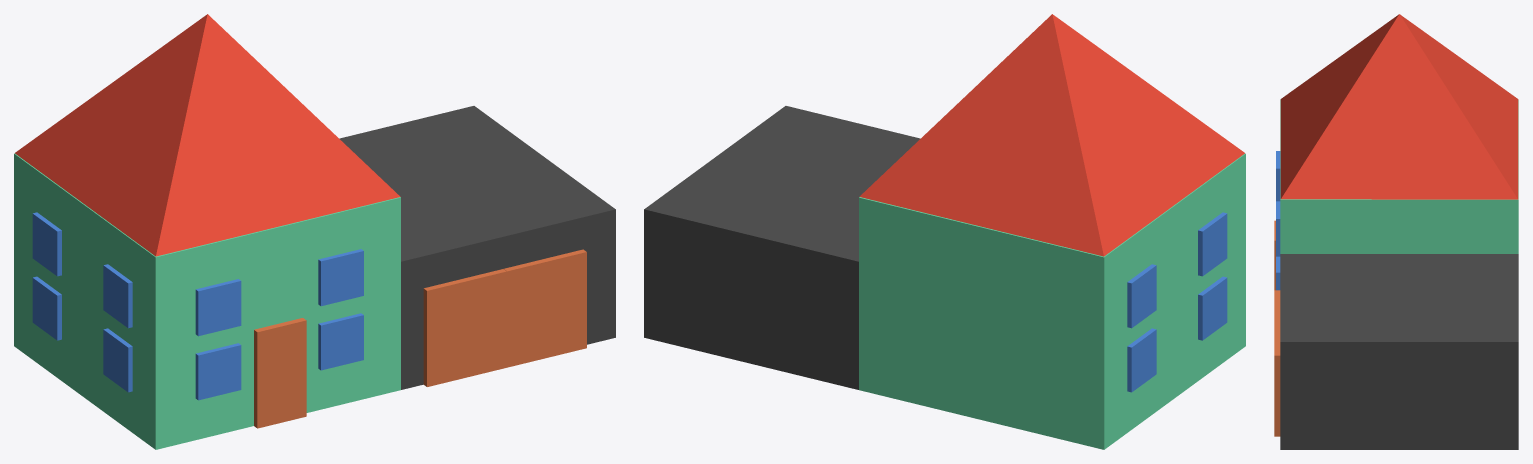
Rendered from house_medium.glb.
3 views of the same model, side by side, from view 1: azimuth 30°, elevation 25°; view 2: azimuth 150°, elevation 25°; view 3: azimuth 270°, elevation 25° (orthographic). The views are drawn at different scales.
Parts seen in each view (by area): view 1: Haus, Cone, Doppelgarage, Garagentor1, Garagentor2, Tür, Fenster_Vorne, Fenster_Vorne.001, Fenster_Vorne.002, Fenster_Vorne.003, Fenster_Links, Fenster_Links.003 (+2 smaller); view 2: Haus, Doppelgarage, Cone, Fenster_Links.001, Fenster_Links.002, Fenster_Links.003, Fenster_Links; view 3: Doppelgarage, Cone, Haus, Garagentor2, Fenster_Vorne.003, Fenster_Vorne.001.
Part boxes in pixels (<box>): Haus: <box>14,153,400,449</box>; Cone: <box>15,14,400,256</box>; Doppelgarage: <box>339,106,615,389</box>; Garagentor1: <box>423,269,506,386</box>; Garagentor2: <box>504,249,586,367</box>; Tür: <box>254,318,306,428</box>; Fenster_Vorne: <box>195,343,241,400</box>; Fenster_Vorne.001: <box>195,279,241,336</box>; Fenster_Vorne.002: <box>318,313,363,370</box>; Fenster_Vorne.003: <box>318,249,363,306</box>; Fenster_Links: <box>103,328,132,392</box>; Fenster_Links.003: <box>32,212,61,276</box>; Haus: <box>859,153,1245,449</box>; Doppelgarage: <box>644,106,920,389</box>; Cone: <box>859,14,1244,256</box>; Fenster_Links.001: <box>1198,212,1227,276</box>; Fenster_Links.002: <box>1127,328,1156,392</box>; Fenster_Links.003: <box>1127,264,1156,328</box>; Fenster_Links: <box>1198,276,1227,340</box>; Doppelgarage: <box>1280,254,1518,449</box>; Cone: <box>1280,14,1518,199</box>; Haus: <box>1280,100,1518,253</box>; Garagentor2: <box>1274,323,1280,436</box>; Fenster_Vorne.003: <box>1276,201,1280,256</box>; Fenster_Vorne.001: <box>1276,151,1280,201</box>.
Bounding box in the file's own units: 15.15 × 11.04 × 8.2.
